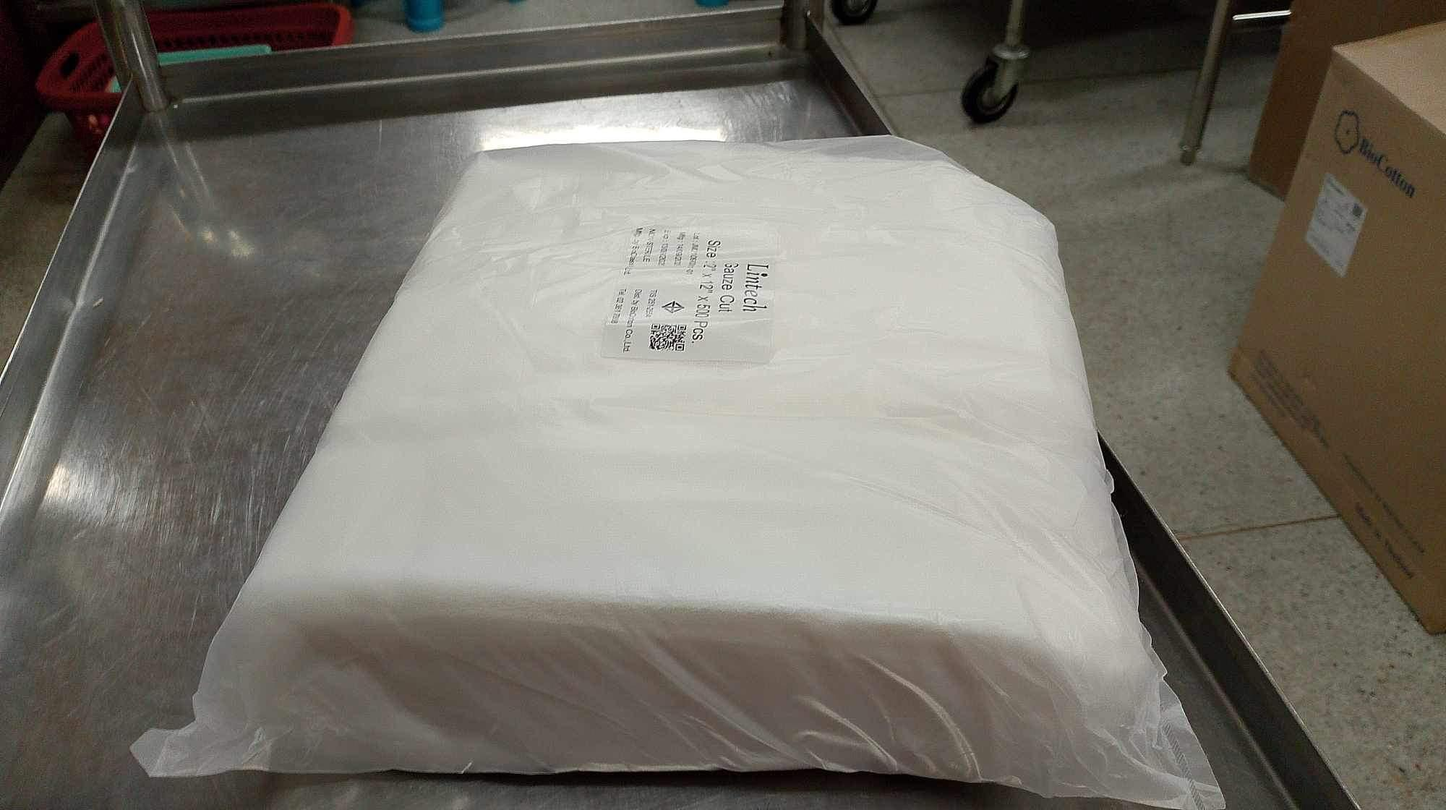General: (129, 131, 1227, 804), (1224, 19, 1444, 638), (597, 221, 780, 367)
